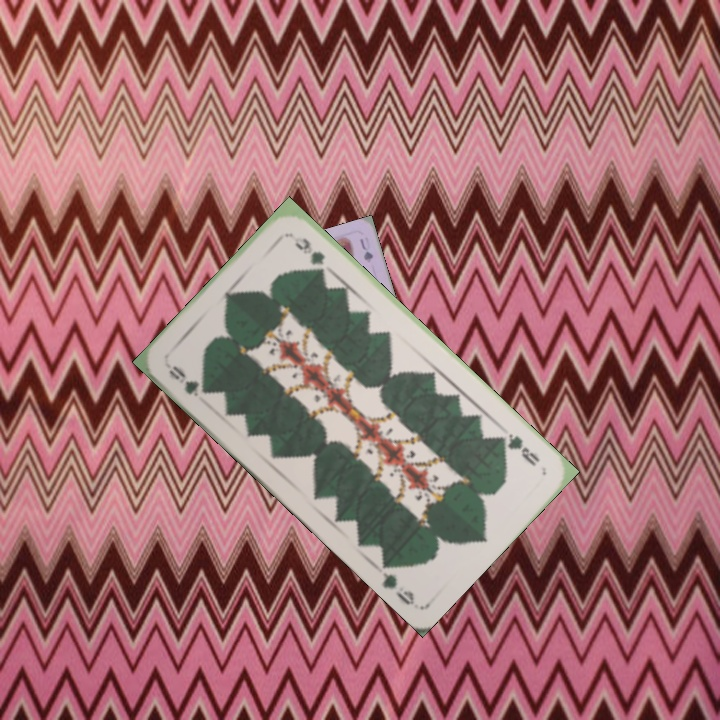G9: (495, 429, 543, 469), (164, 361, 213, 399)
